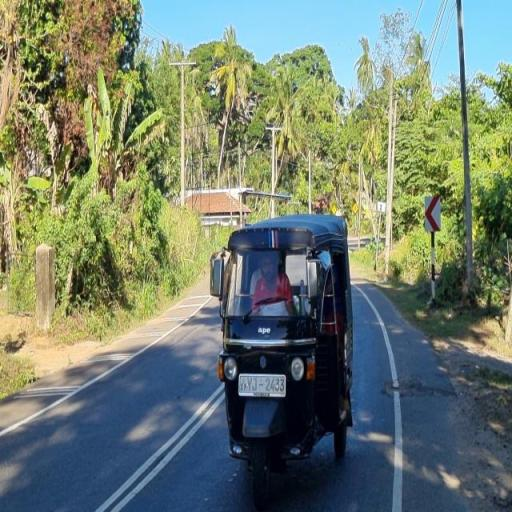double_white_line: (90, 384, 224, 512)
